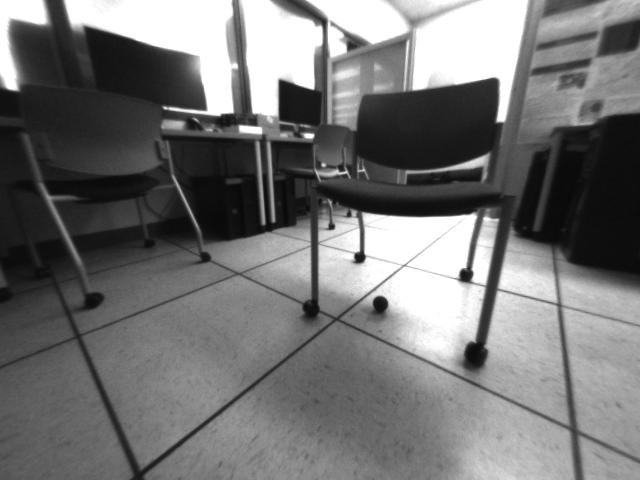dogtoy: (368, 289, 393, 317)
